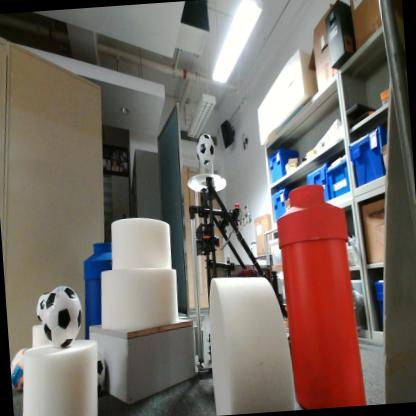ball: (42, 284, 84, 350), (197, 132, 216, 166), (94, 350, 108, 394), (10, 348, 24, 391), (36, 292, 50, 320)
